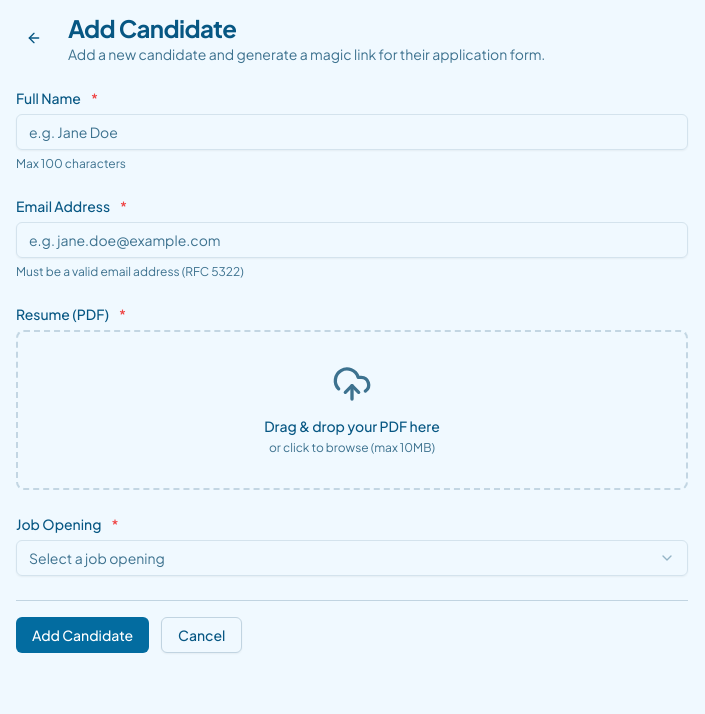
Scenario: CreateCandidatePage › validates job opening is required on submit
The width and height of the screenshot is (705, 714).
Click the button "Add Candidate": x=83, y=635 [16,617,149,653]
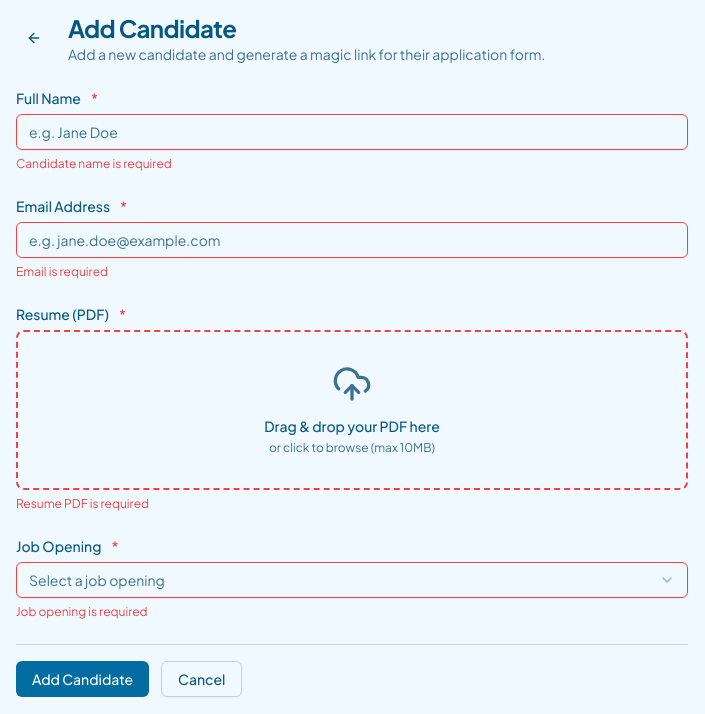
Check: the text "Job opening is required" is shown, box [16,604,148,619]
